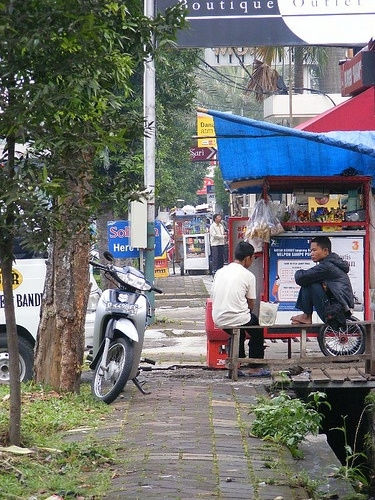gerobak: (198, 90, 374, 387), (166, 198, 213, 275)
